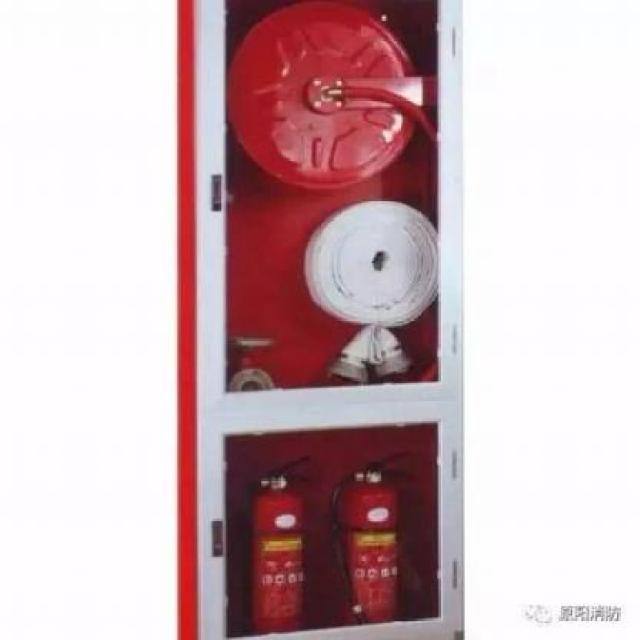firehydrant: (169, 0, 473, 639)
